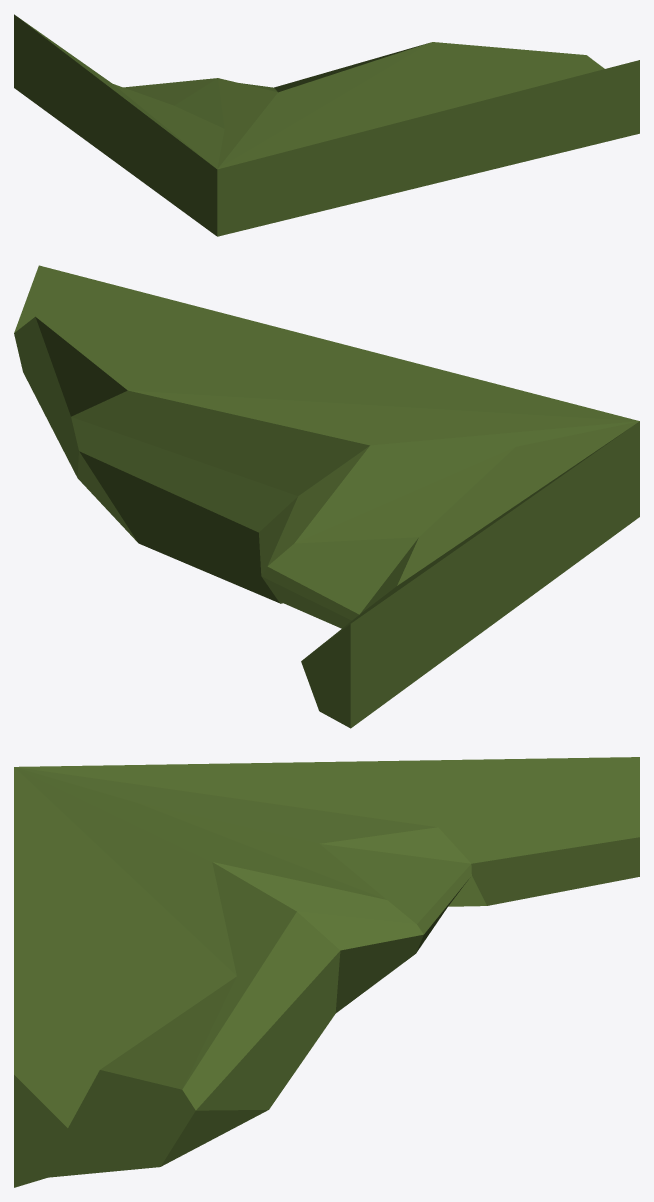
File: LightVegetationEdgeLargeInternalCurve1.fbx
The picture shows the model from 3 angles, top to bottom: view 1: azimuth 30°, elevation 25°; view 2: azimuth 150°, elevation 25°; view 3: azimuth 270°, elevation 25°; orthographic projection. The views are drawn at different scales.
Visible parts, largest first — view 1: LightVegetationEdgeEdgeLargeInternalCurve1; view 2: LightVegetationEdgeEdgeLargeInternalCurve1; view 3: LightVegetationEdgeEdgeLargeInternalCurve1.
Boxes of the visible parts, box(x1,y1,x2,y2) form: LightVegetationEdgeEdgeLargeInternalCurve1: box(14, 14, 639, 236); LightVegetationEdgeEdgeLargeInternalCurve1: box(14, 265, 639, 728); LightVegetationEdgeEdgeLargeInternalCurve1: box(14, 757, 639, 1187).
Bounding box in the file's own units: 1200 × 265 × 1000.
